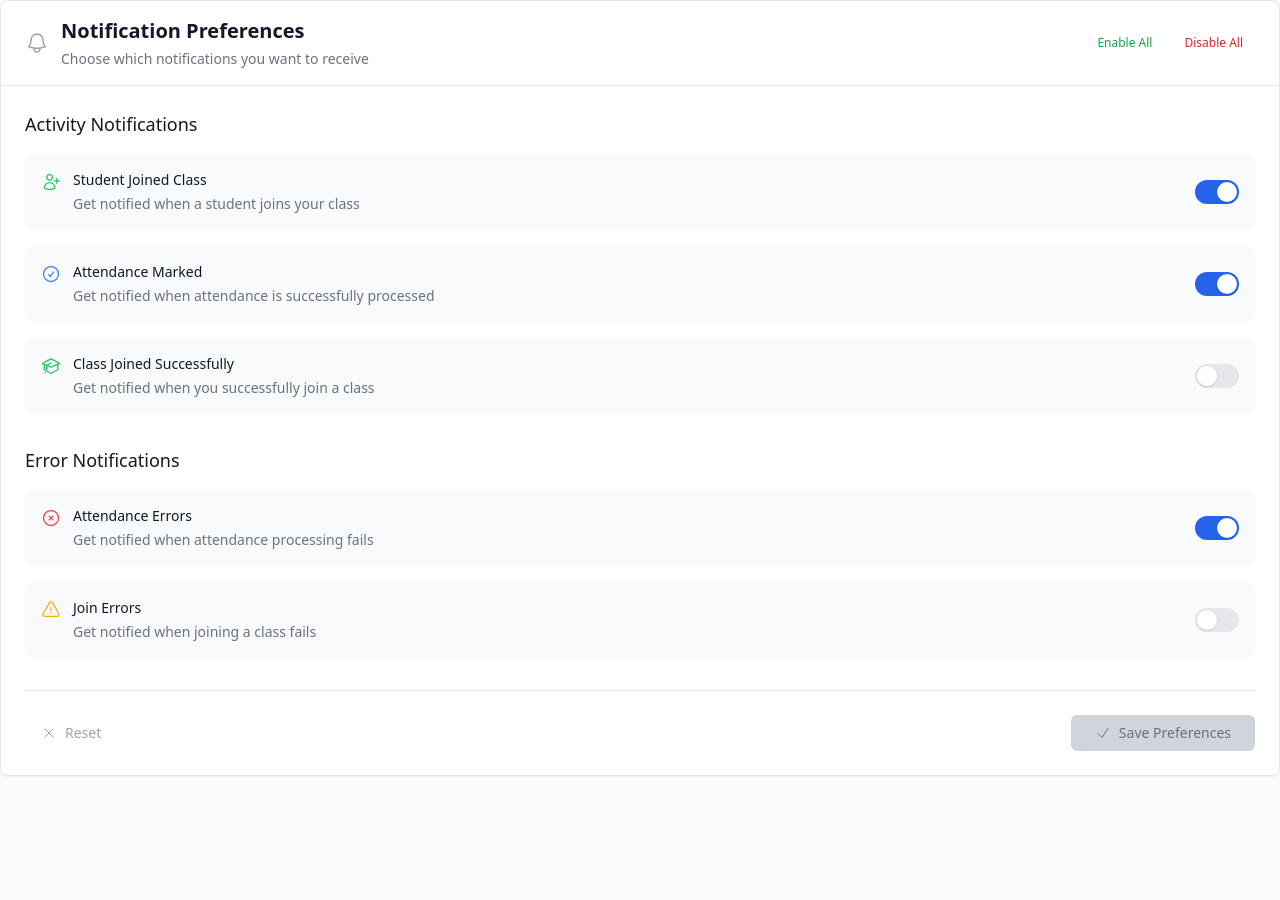
Scenario: NotificationPreferences › Error Handling › shows error message when save fails
This screenshot has width=1280, height=900.
Note: Make a change and save
Click the button with test id "toggle-class_joined".
click(1217, 376)  # box [1195,364,1239,388]
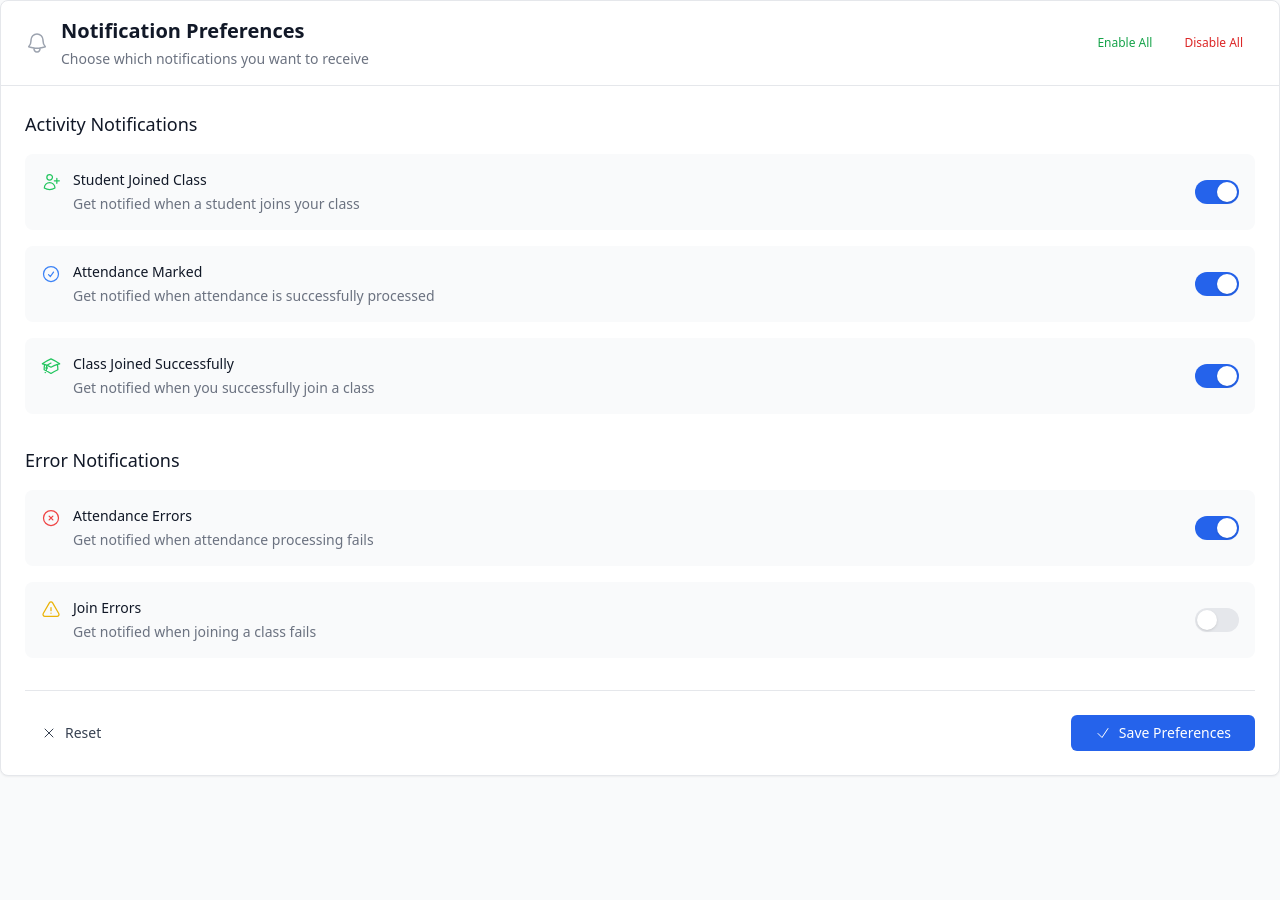
Click the button with test id "save-button".
click(1163, 733)  # box [1071,715,1255,751]
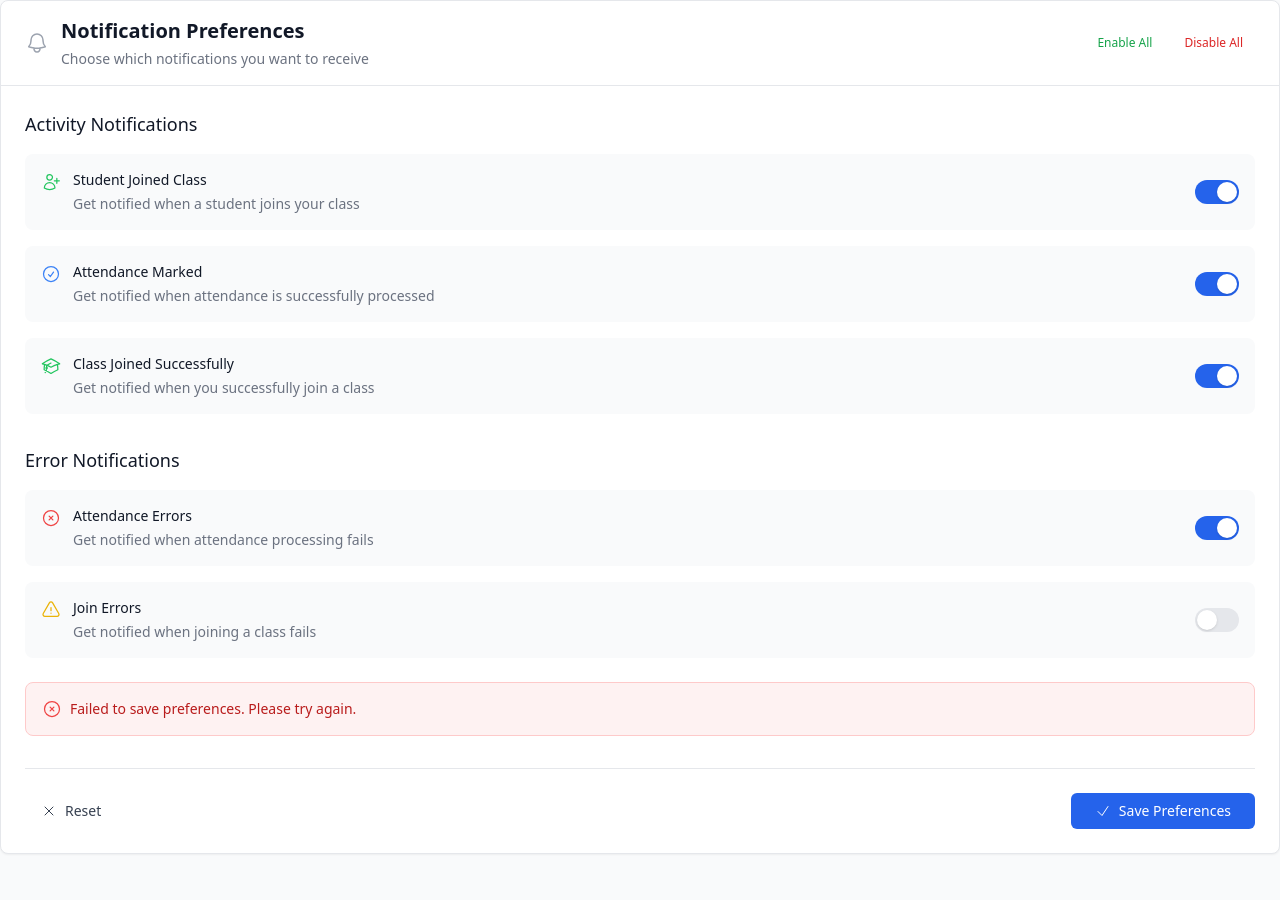
Expected: the text "Failed to save preferences. Please try again." is shown, [70,699,356,719]
